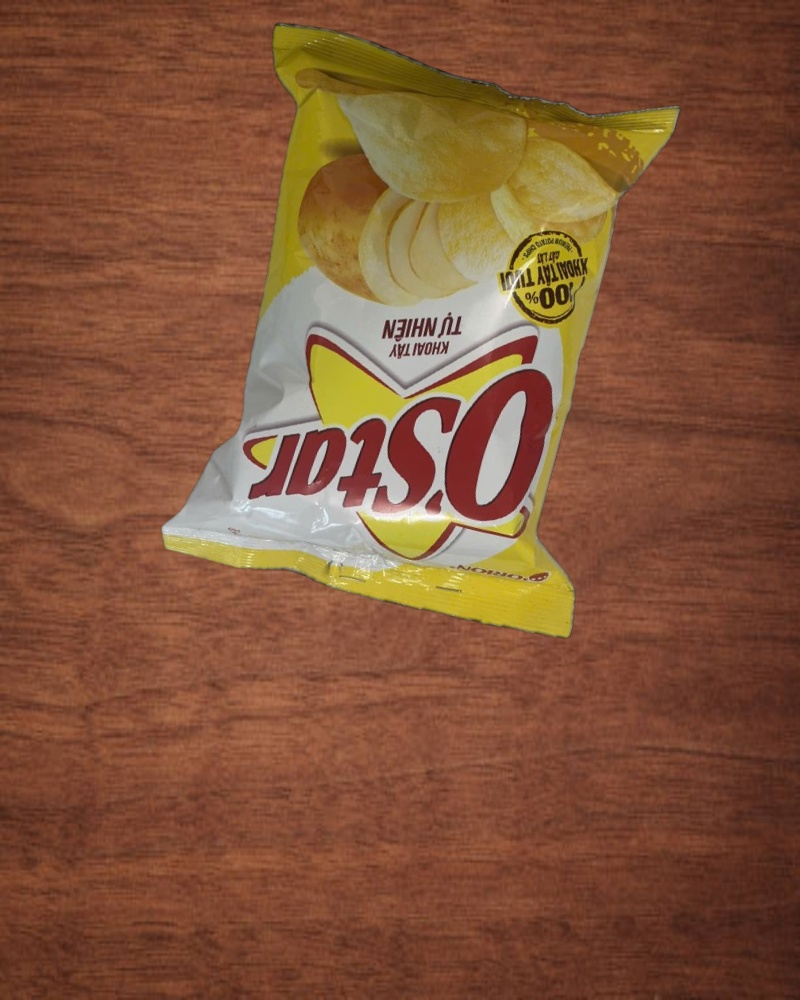Snack cua: (143, 8, 706, 650)
